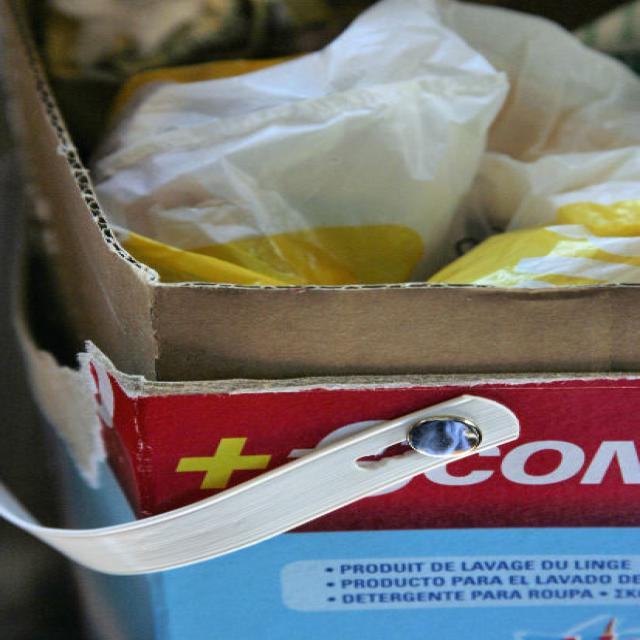cardboard: (23, 292, 640, 640)
plastic: (174, 37, 623, 270)
